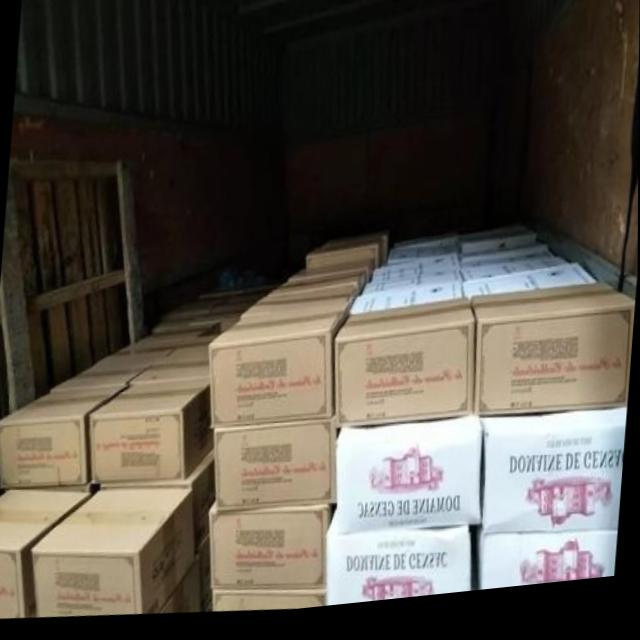box: (470, 293, 634, 425), (32, 491, 197, 617), (207, 308, 349, 433), (480, 423, 627, 543), (336, 423, 484, 541), (336, 308, 475, 431), (325, 513, 473, 613), (89, 382, 214, 484), (0, 389, 127, 487), (0, 488, 89, 618), (214, 426, 337, 517), (208, 506, 330, 594), (101, 457, 216, 549), (477, 544, 617, 601), (52, 353, 172, 390), (462, 275, 596, 308), (241, 293, 358, 323), (351, 290, 461, 320), (129, 351, 208, 386), (461, 268, 568, 290), (362, 279, 461, 301), (373, 264, 460, 289), (214, 595, 327, 614), (306, 248, 383, 275), (273, 279, 367, 301), (159, 570, 202, 617), (324, 237, 387, 267), (460, 261, 554, 279), (291, 267, 374, 287), (119, 335, 202, 354), (459, 241, 537, 261), (460, 253, 546, 271), (389, 255, 457, 272), (163, 305, 224, 322), (198, 542, 213, 611), (152, 322, 219, 336), (208, 306, 255, 322), (395, 245, 457, 256), (17, 486, 89, 494), (179, 339, 219, 351)
